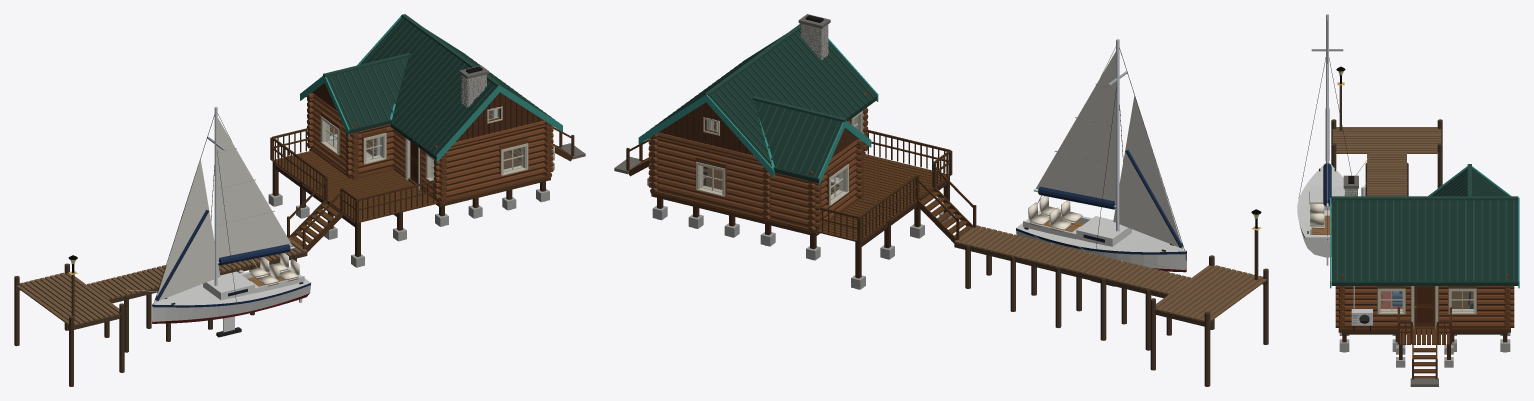
The model's file is house.glb.
3 renders of one model, left to right at view 1: azimuth 30°, elevation 25°; view 2: azimuth 150°, elevation 25°; view 3: azimuth 270°, elevation 25°, orthographic. The views are drawn at different scales.
Parts seen in each view (by area): view 1: Roof, Walls (logs), Dock, Deck & railings, Boat hull, Mainsail, Jib, Floor & stilts, Window & door frames, Gables, Stairs, Mast & rigging (+5 smaller); view 2: Roof, Dock, Walls (logs), Deck & railings, Mainsail, Boat hull, Jib, Floor & stilts, Gables, Window & door frames, Stairs, Mast & rigging (+5 smaller); view 3: Roof, Dock, Walls (logs), Back deck & stairs, Boat hull, Floor & stilts, Window & door frames, Back door, Mast & rigging, Glass, AC outdoor unit, Furled mainsail (+4 smaller).
Boxes of the visible parts, x1=… form: Roof: x1=300, y1=14, x2=562, y2=162; Walls (logs): x1=307, y1=55, x2=553, y2=203; Dock: x1=14, y1=237, x2=307, y2=386; Deck & railings: x1=270, y1=128, x2=439, y2=223; Boat hull: x1=152, y1=267, x2=310, y2=337; Mainsail: x1=217, y1=118, x2=292, y2=260; Jib: x1=155, y1=159, x2=220, y2=302; Floor & stilts: x1=268, y1=149, x2=550, y2=267; Window & door frames: x1=320, y1=109, x2=528, y2=189; Gables: x1=313, y1=83, x2=543, y2=141; Stairs: x1=287, y1=181, x2=342, y2=252; Mast & rigging: x1=153, y1=106, x2=290, y2=303; Roof: x1=638, y1=23, x2=878, y2=185; Dock: x1=954, y1=225, x2=1268, y2=386; Walls (logs): x1=648, y1=62, x2=868, y2=232; Deck & railings: x1=816, y1=129, x2=952, y2=242; Mainsail: x1=1035, y1=51, x2=1115, y2=204; Boat hull: x1=1016, y1=211, x2=1186, y2=286; Jib: x1=1113, y1=95, x2=1183, y2=248; Floor & stilts: x1=651, y1=152, x2=954, y2=289; Gables: x1=658, y1=102, x2=857, y2=157; Window & door frames: x1=695, y1=110, x2=863, y2=205; Stairs: x1=916, y1=167, x2=976, y2=243; Mast & rigging: x1=1037, y1=39, x2=1184, y2=250; Roof: x1=1330, y1=164, x2=1519, y2=288; Dock: x1=1331, y1=82, x2=1442, y2=196; Walls (logs): x1=1335, y1=274, x2=1514, y2=327; Back deck & stairs: x1=1396, y1=307, x2=1453, y2=386; Boat hull: x1=1297, y1=162, x2=1344, y2=257; Floor & stilts: x1=1338, y1=291, x2=1510, y2=352; Window & door frames: x1=1377, y1=286, x2=1477, y2=329; Back door: x1=1414, y1=286, x2=1435, y2=326; Mast & rigging: x1=1298, y1=14, x2=1351, y2=236; Glass: x1=1381, y1=291, x2=1473, y2=310; AC outdoor unit: x1=1351, y1=286, x2=1372, y2=330; Furled mainsail: x1=1323, y1=163, x2=1331, y2=206.
Size of the model in its own units: 119 by 50.48 by 42.36.
